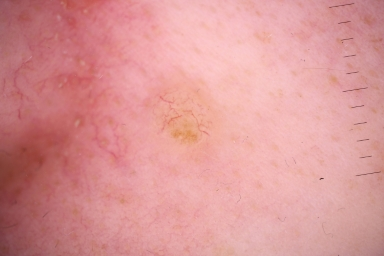nevus: (156, 89, 209, 141)
